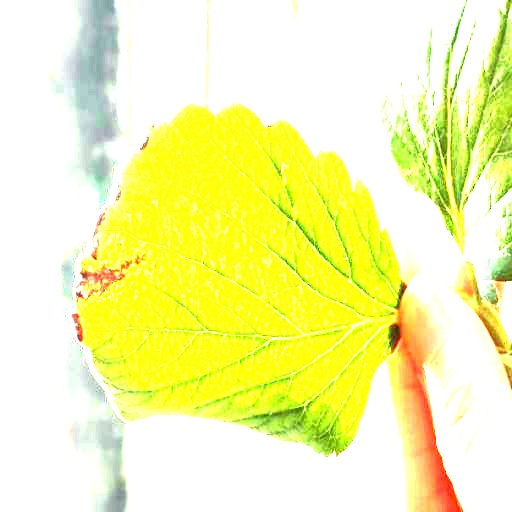Angular Leafspot: (67, 129, 387, 369)
